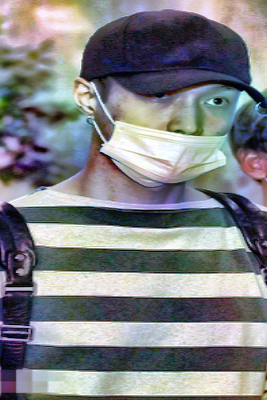mask_weared_incorrect: (94, 86, 237, 184)
